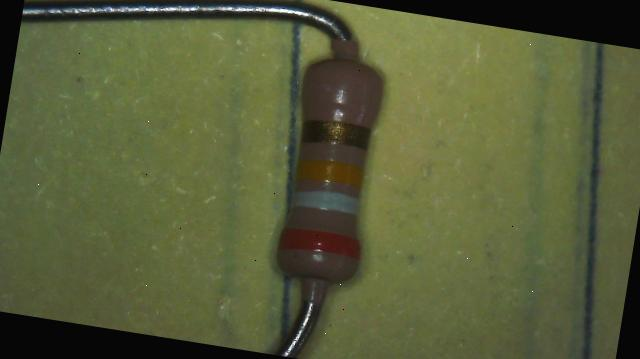gold: (299, 115, 372, 151)
orange: (279, 225, 362, 260)
resistor: (259, 32, 404, 306)
white: (292, 186, 360, 216)
yellow: (296, 156, 364, 189)
